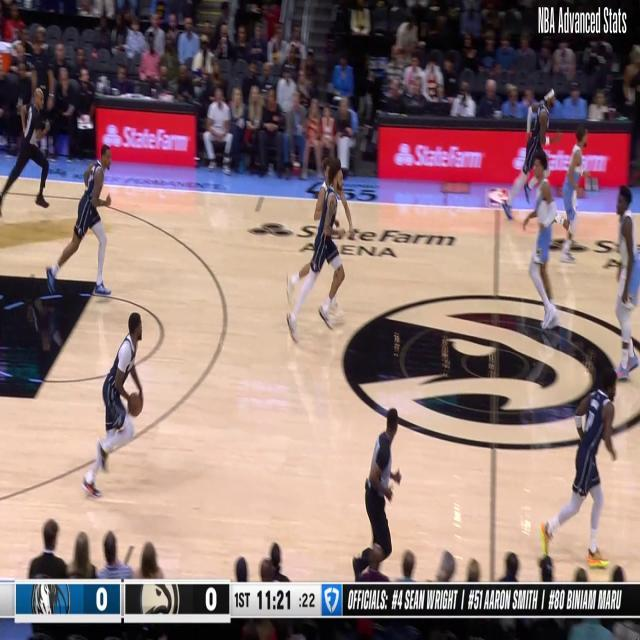ball: (120, 388, 150, 420)
player: (538, 351, 619, 571), (283, 154, 355, 344), (81, 310, 145, 500), (287, 153, 357, 322), (44, 140, 114, 300), (520, 150, 560, 346), (499, 85, 556, 222), (609, 176, 640, 394), (556, 112, 596, 265)
